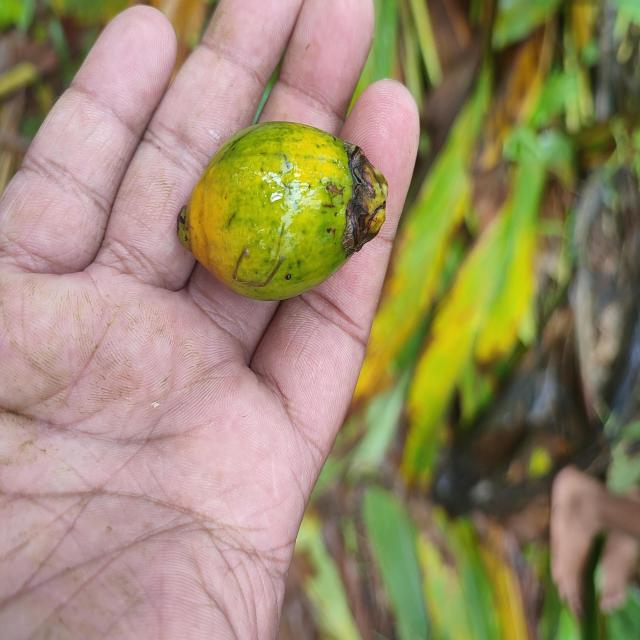good: (175, 122, 387, 303)
